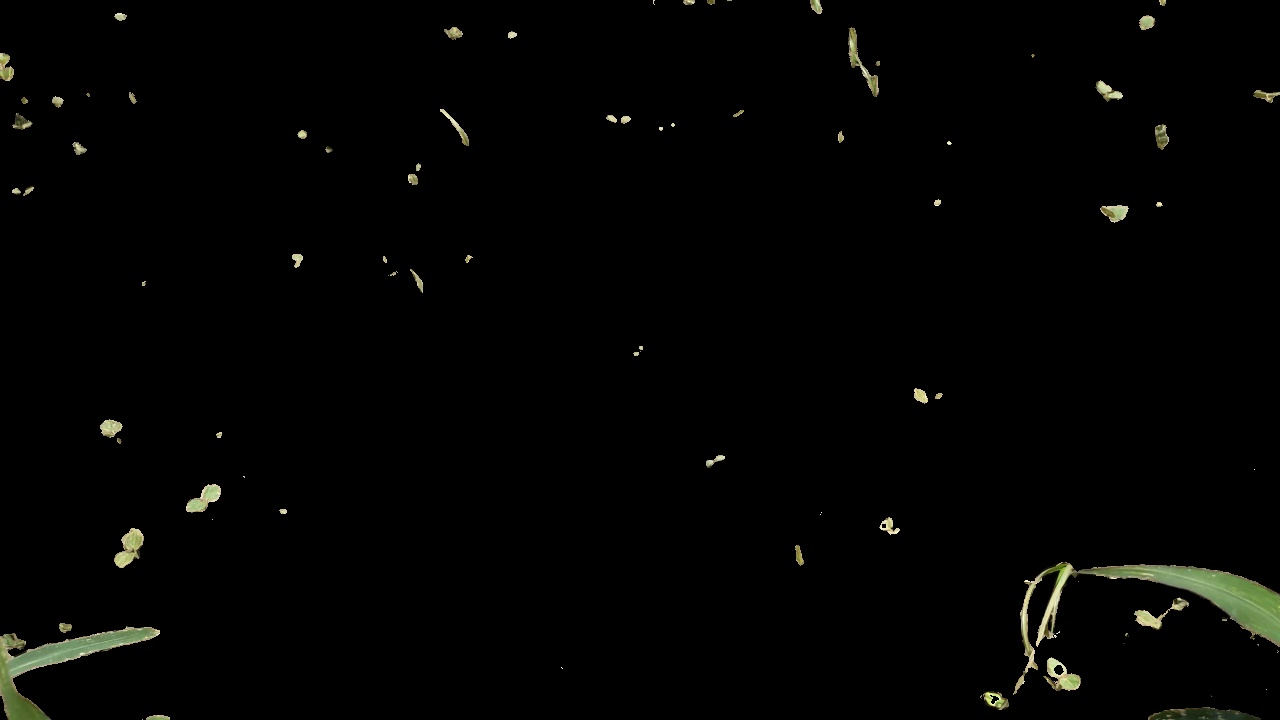crop: (983, 535, 1280, 720), (2, 609, 176, 720)
weed: (176, 468, 225, 519), (1088, 72, 1136, 114), (1048, 651, 1086, 694), (115, 529, 148, 564), (101, 414, 128, 444)
